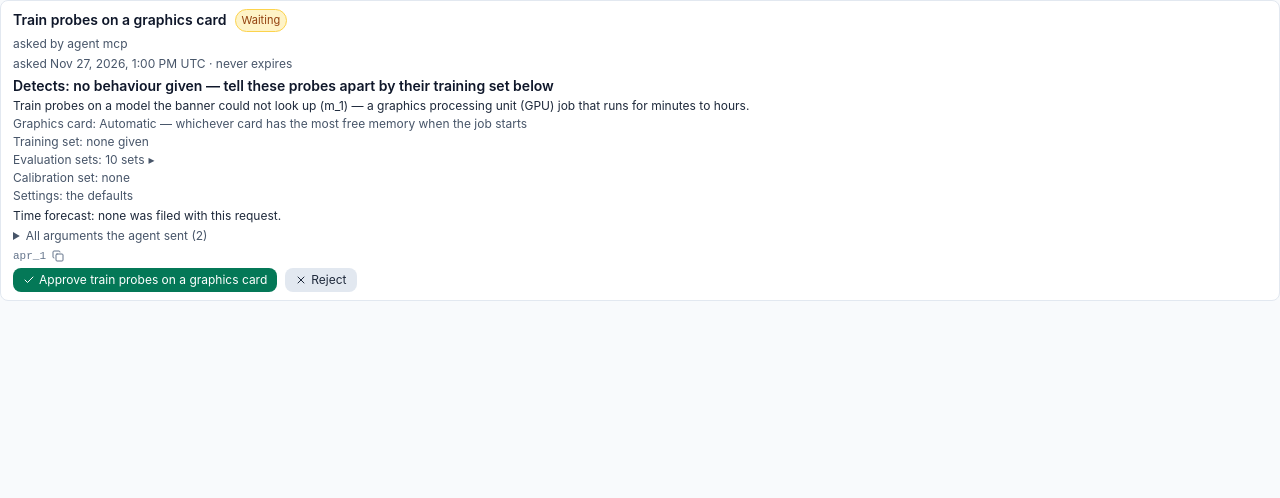
Test: the approval card lists sets one per line, collapsible › a set the card could not look up keeps its id on its own line, with "(name not found)"
Click the button "Evaluation sets: 10 sets ▸".
click(84, 160)  # box [13,152,154,168]
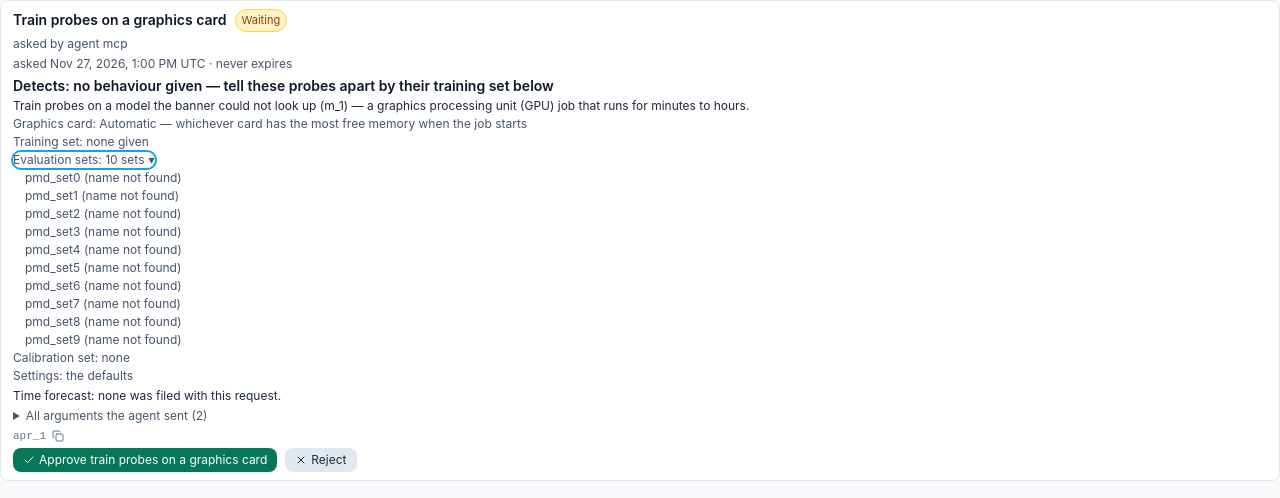
Result: the number of list items is 10
